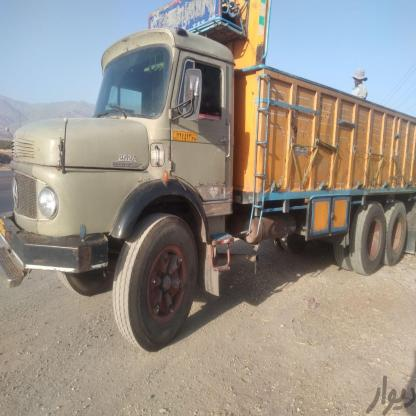Truck: (0, 0, 416, 349)
